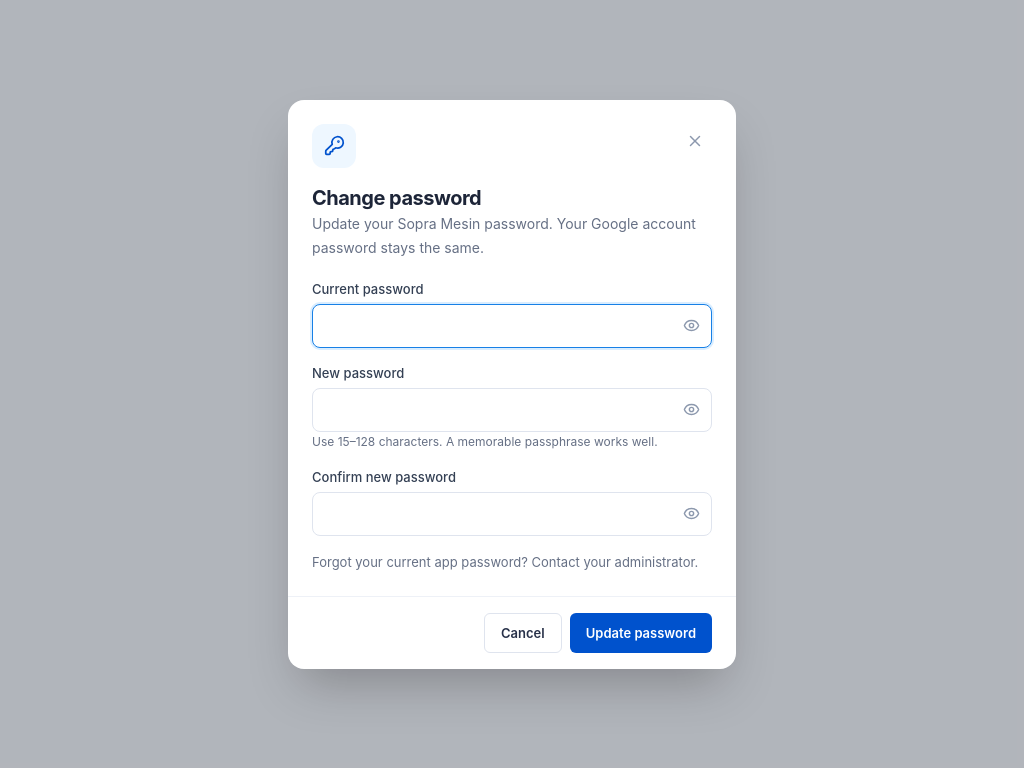
Rejected old password keeps the form and shows the server error inline
In the password field labelled "Current password": (512, 326) [312, 304, 712, 348], type "old password"
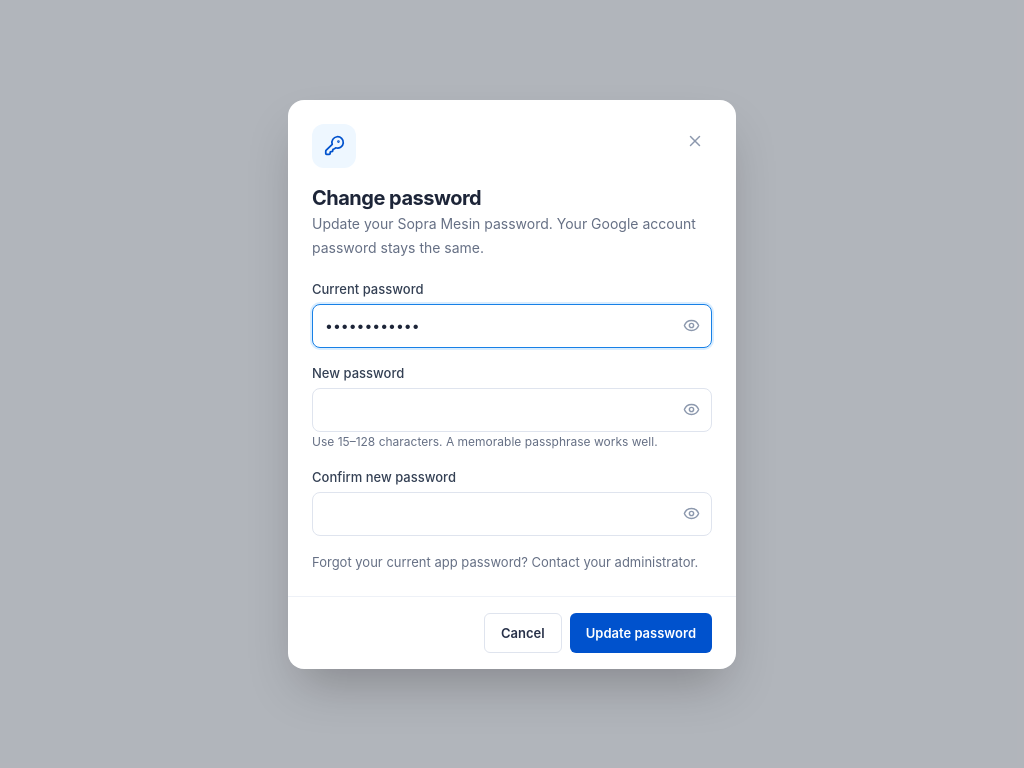
In the password field labelled "New password": (512, 410) [312, 388, 712, 432], type "a new memorable passphrase"
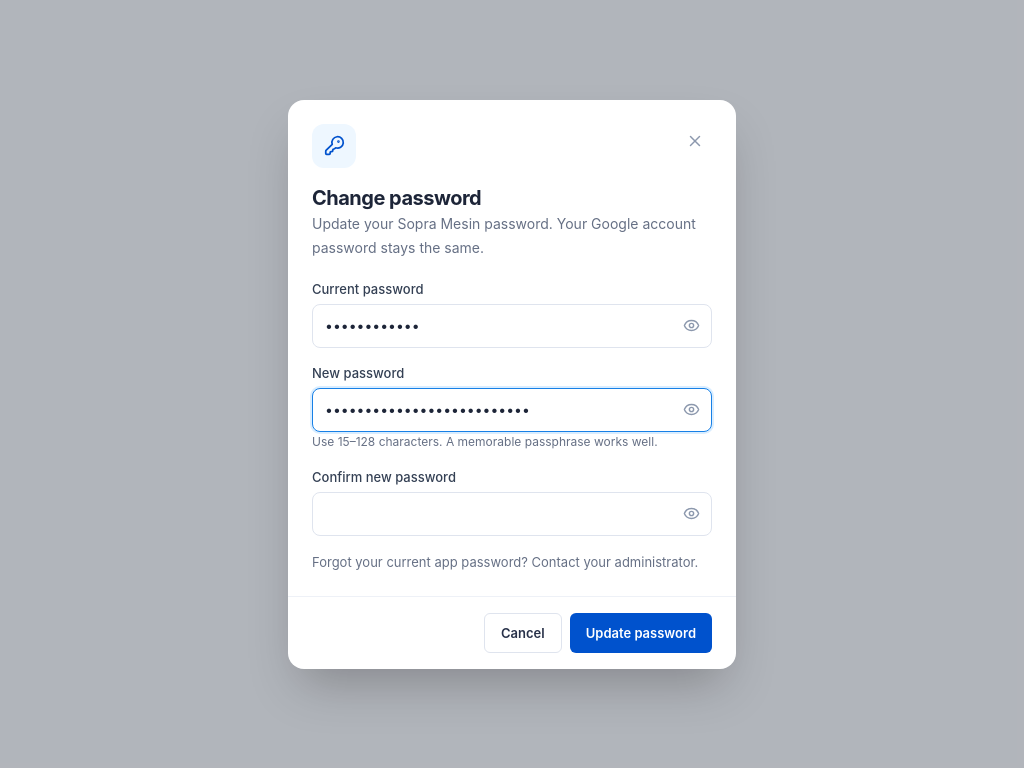
In the password field labelled "Confirm new password": (512, 514) [312, 492, 712, 536], type "a new memorable passphrase"
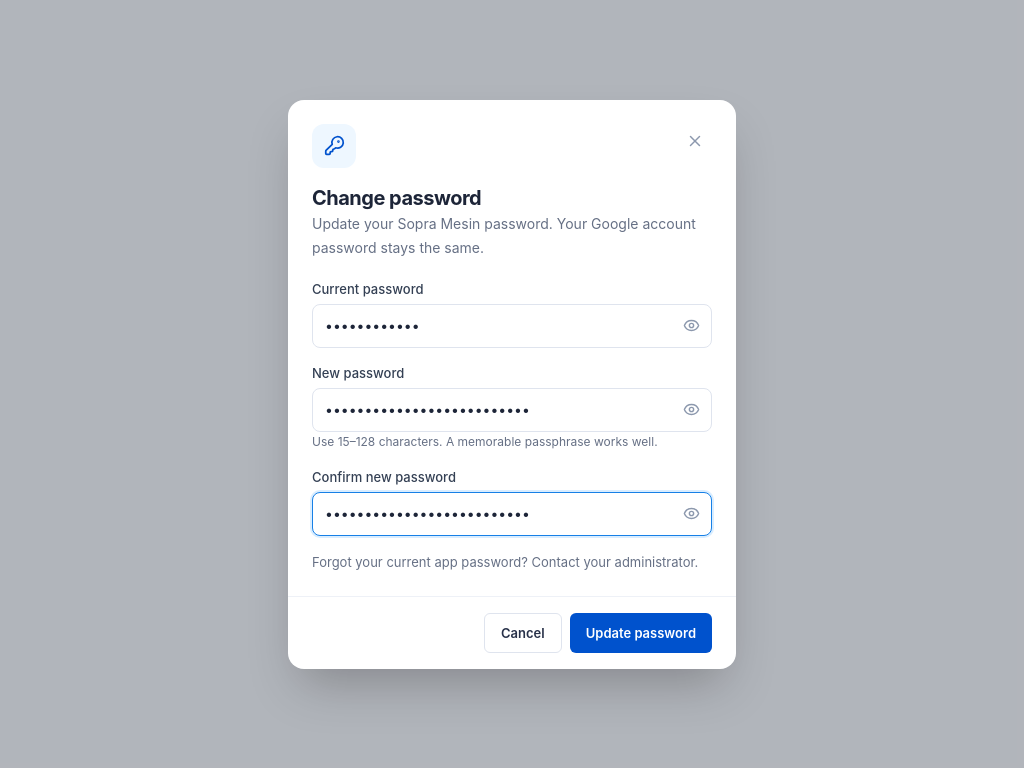
Click the button "Update password": (641, 632) [570, 612, 712, 652]
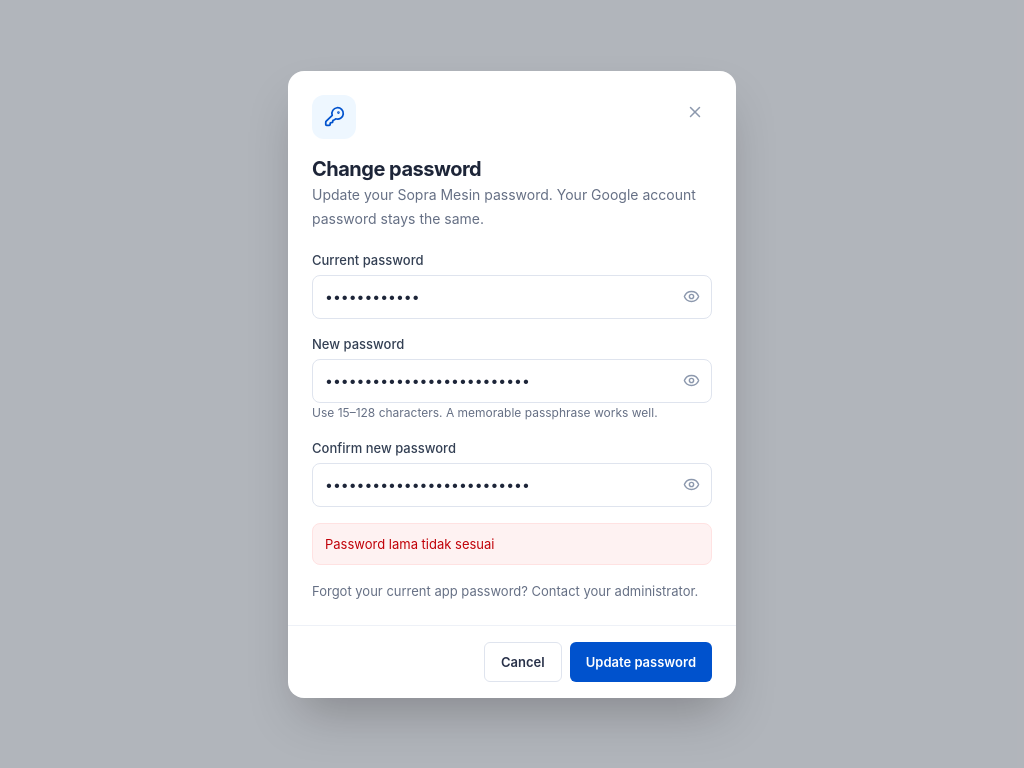
Expected: the message reads "Password lama tidak sesuai", [325, 536, 494, 552]
